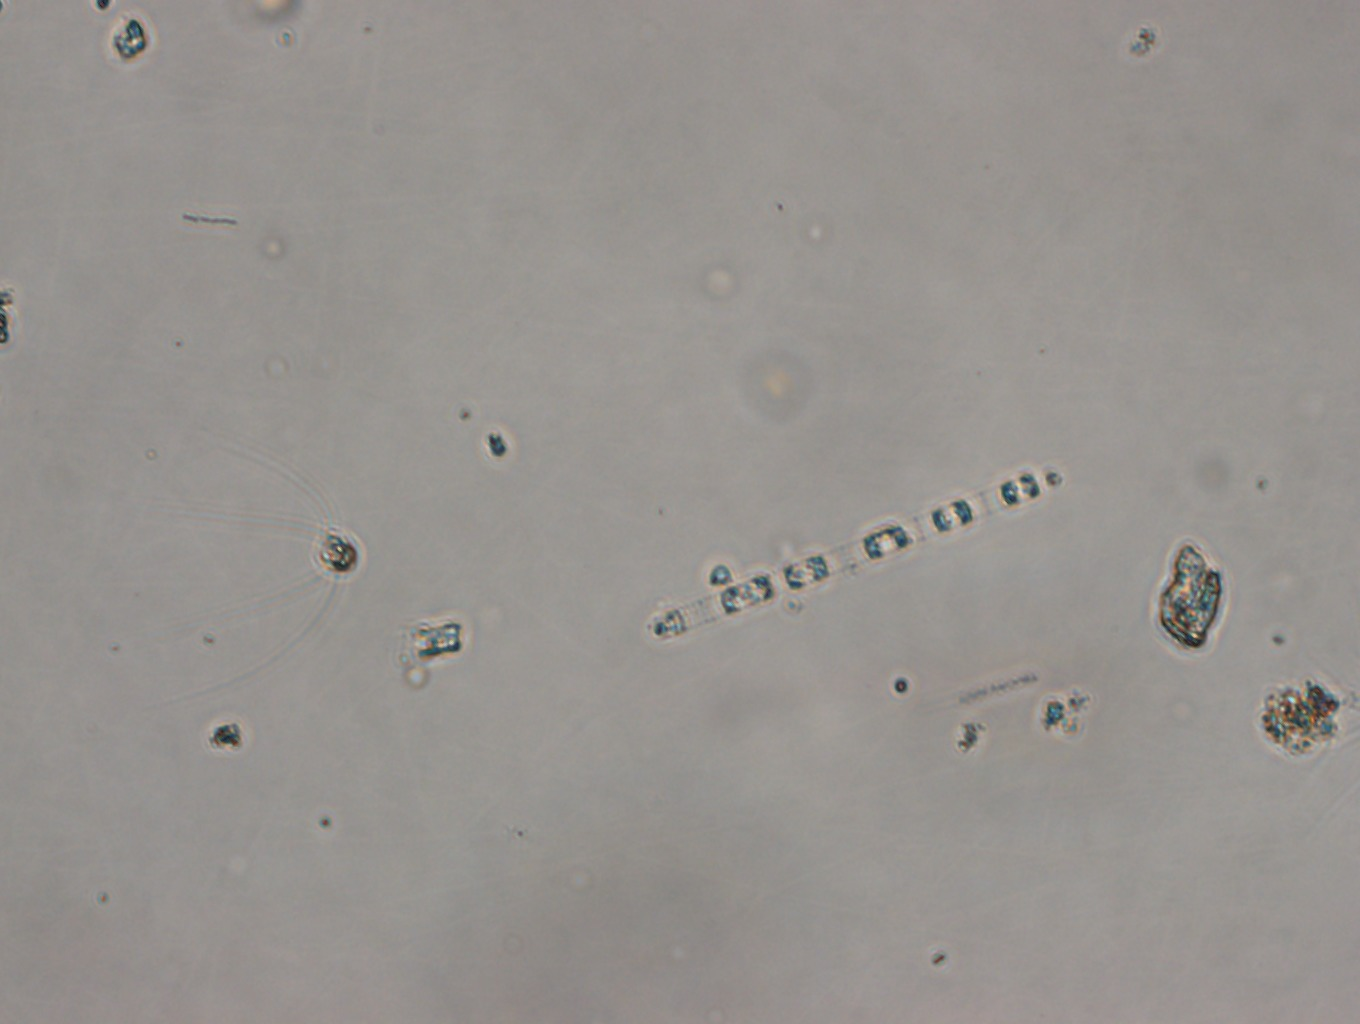skeletonema: (658, 463, 1075, 646)
